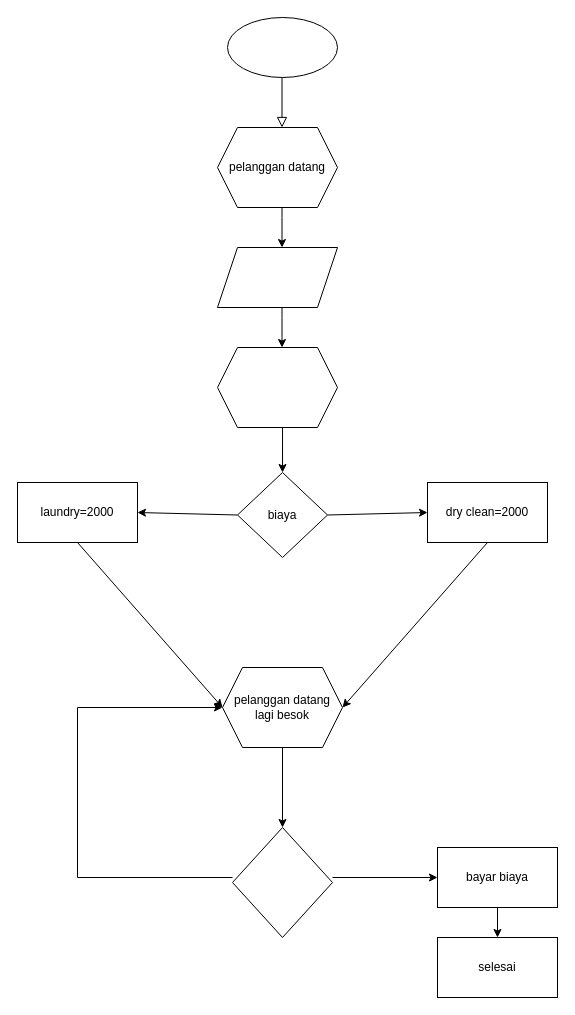
Some shapes in this 575 by 1015 pixel diagram are drawn without their labels. The centre of each missing label's shape, as x and y in pixels:
"cek formulir data barang" goes at (277,387).
"jaket=m kaos=L" goes at (277,277).
"mulain" goes at (282,47).
"pakaian sudah bersih?" goes at (282,882).
